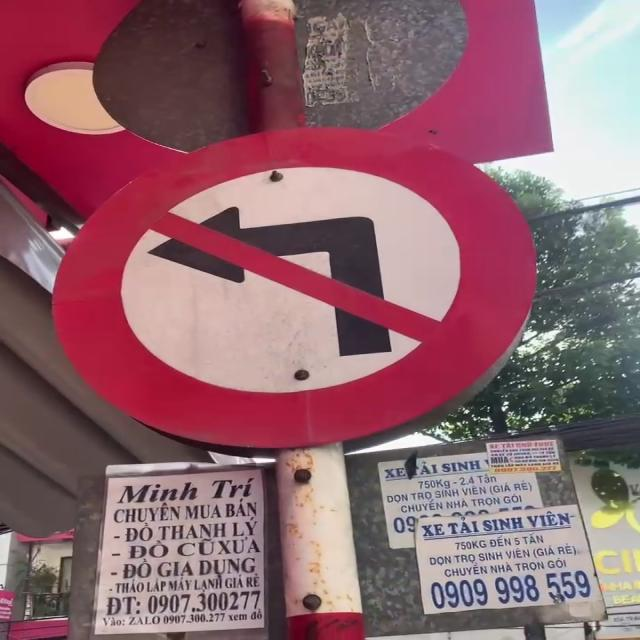Cam_Re_Trai: (52, 127, 540, 450)
